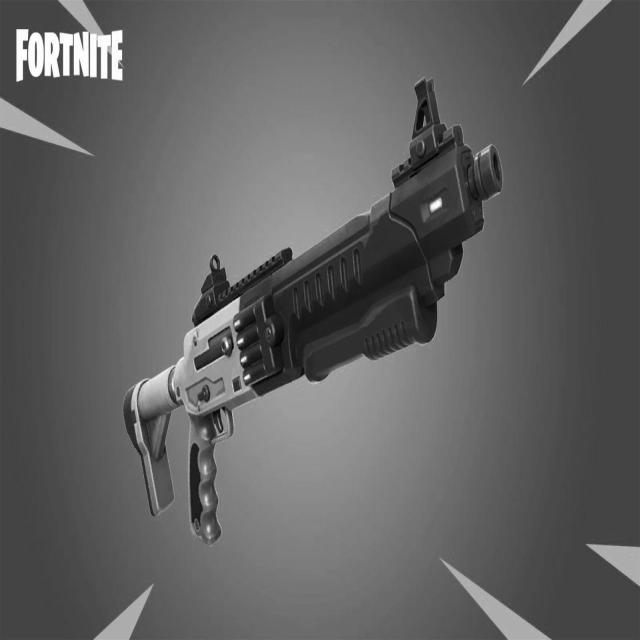Short-Gun: (99, 69, 497, 591)
